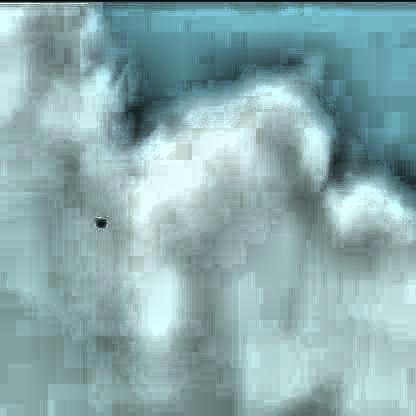golfball: (92, 215, 105, 226)
